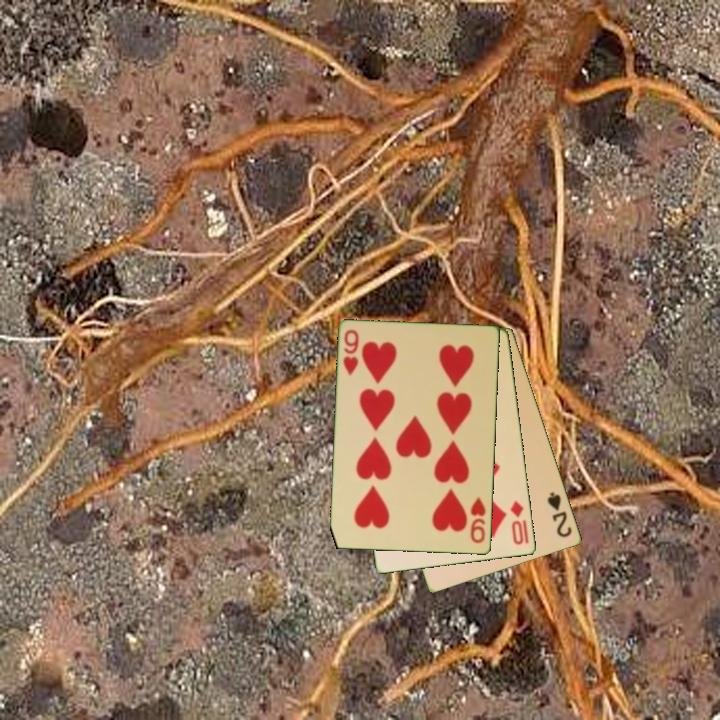10d: (507, 497, 532, 548)
2s: (544, 489, 575, 541)
9h: (467, 494, 489, 546), (340, 327, 362, 378)
